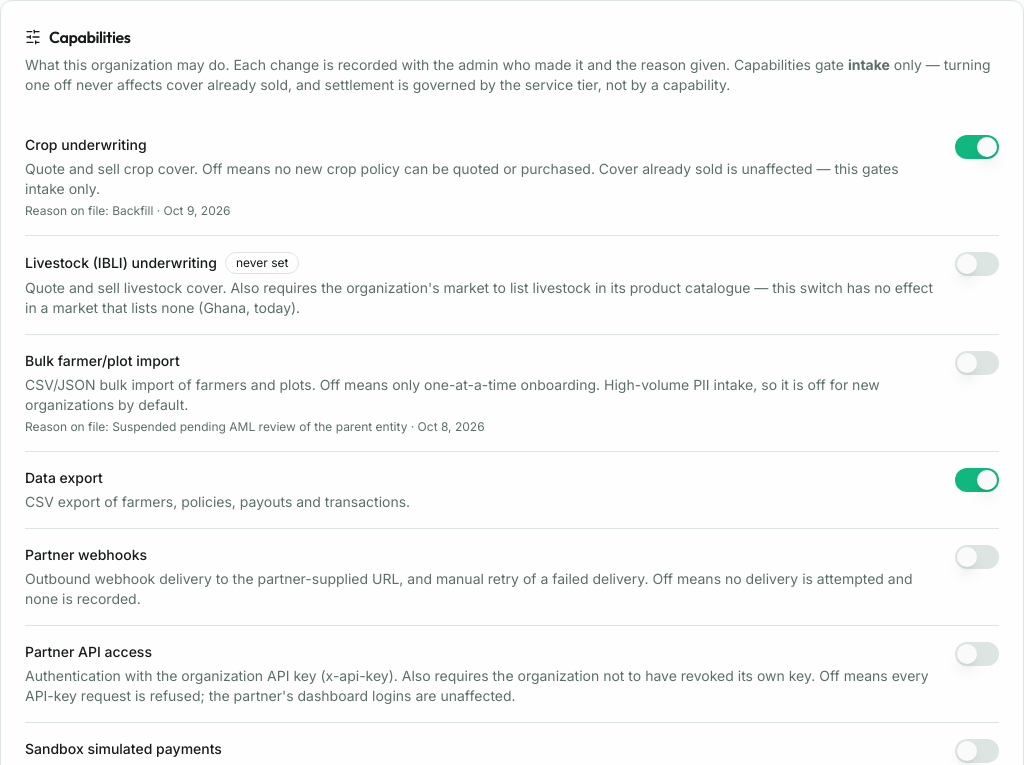
Test: flipping a capability › refuses a reason shorter than the backend accepts
This screenshot has width=1024, height=765.
Later steps or results of the test are not shown.
Click the switch named "Bulk farmer/plot import" in the row of "Bulk farmer/plot import". click: (977, 363)
box: [955,351,999,375]
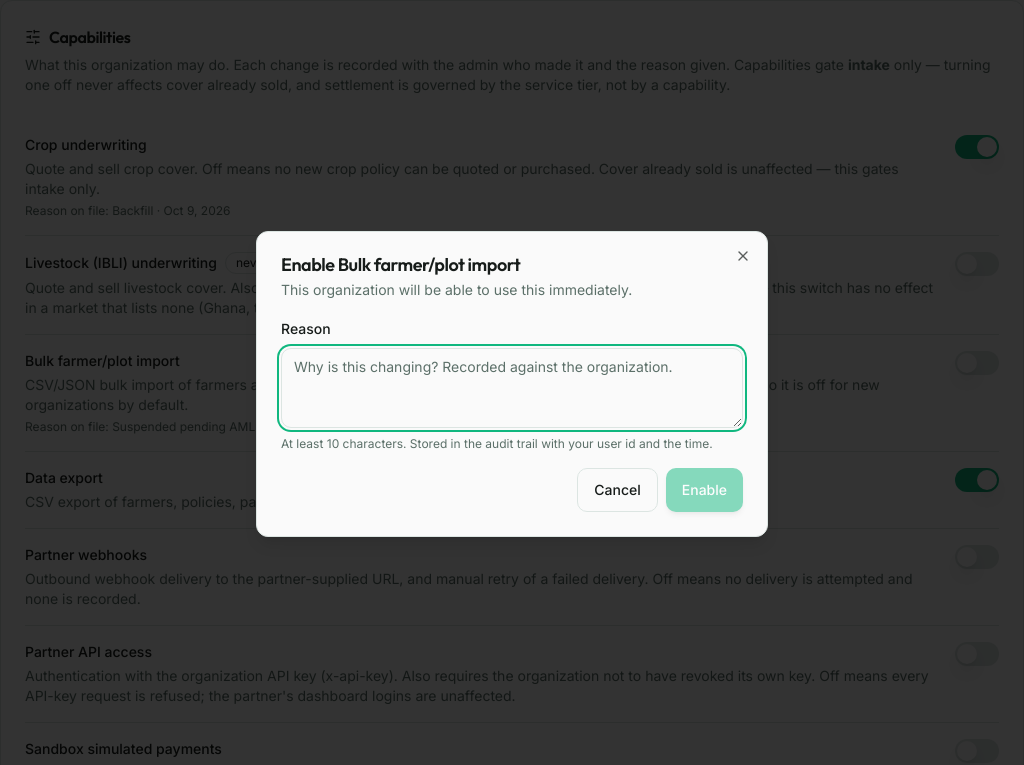
Type "ok" into the text box labelled "Reason". click: (512, 388)
box: [281,348,743,428]
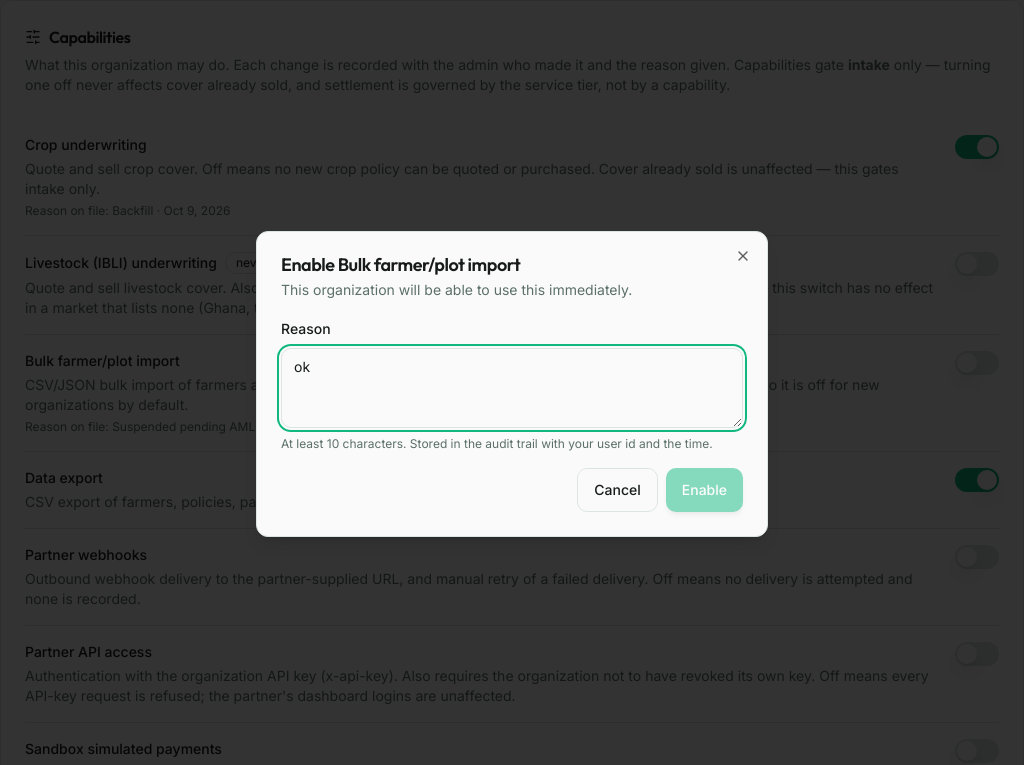
Result: the button "Enable" is disabled at [666,468,743,512]
